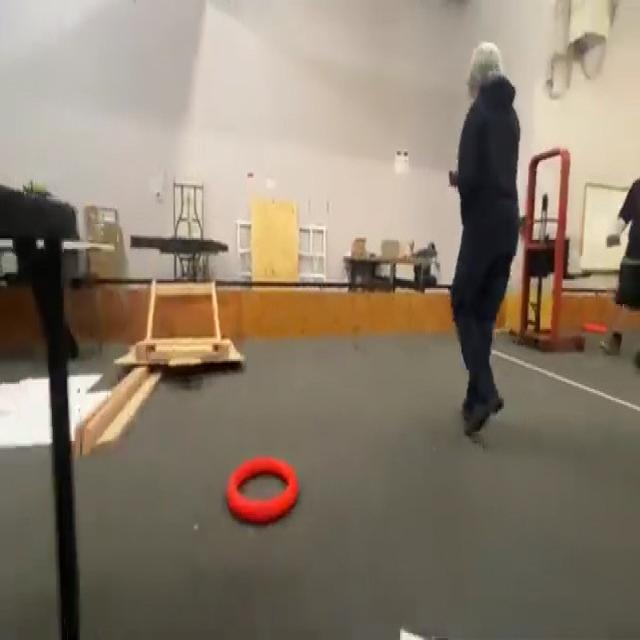note: (223, 460, 296, 526)
